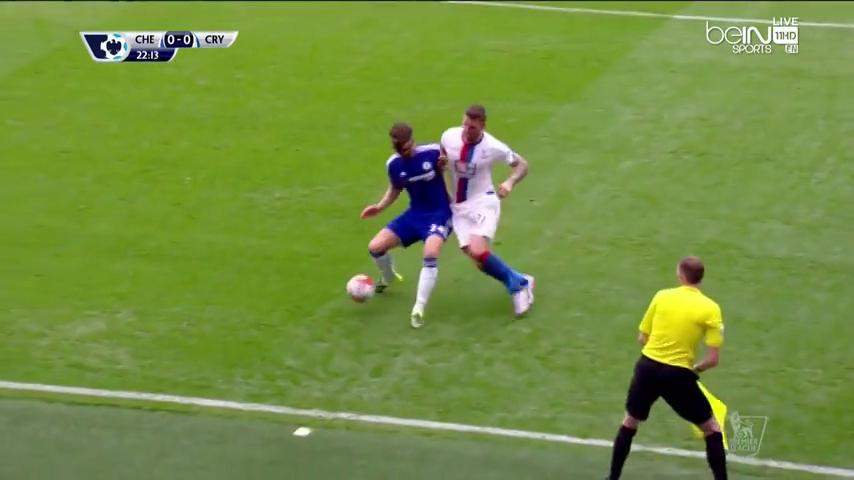football: (346, 273, 377, 304)
